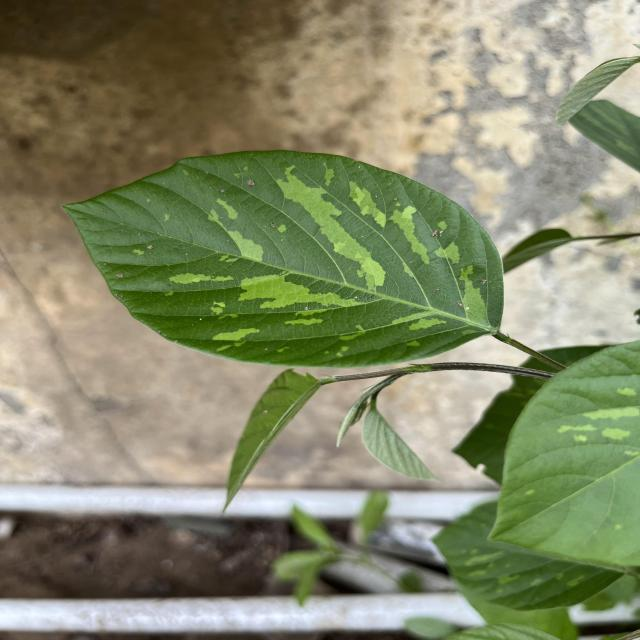Desmodium gangeticum: (57, 144, 516, 372)
